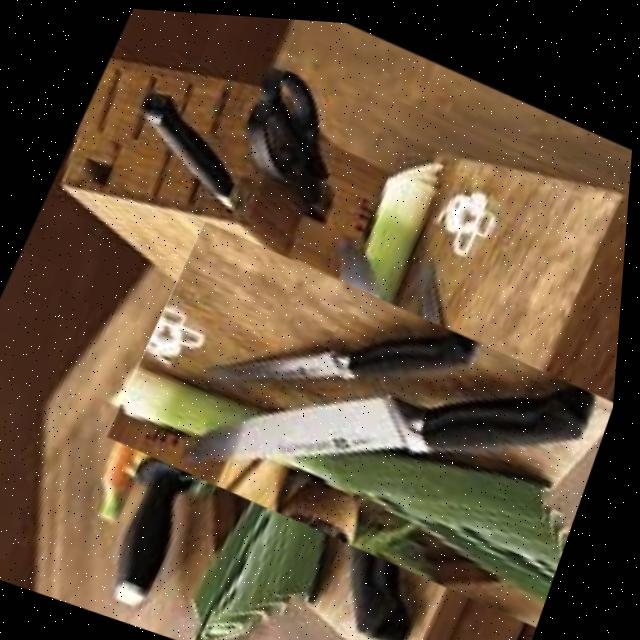knife: (178, 265, 609, 579), (308, 247, 534, 640), (210, 254, 488, 448), (116, 81, 268, 210)
